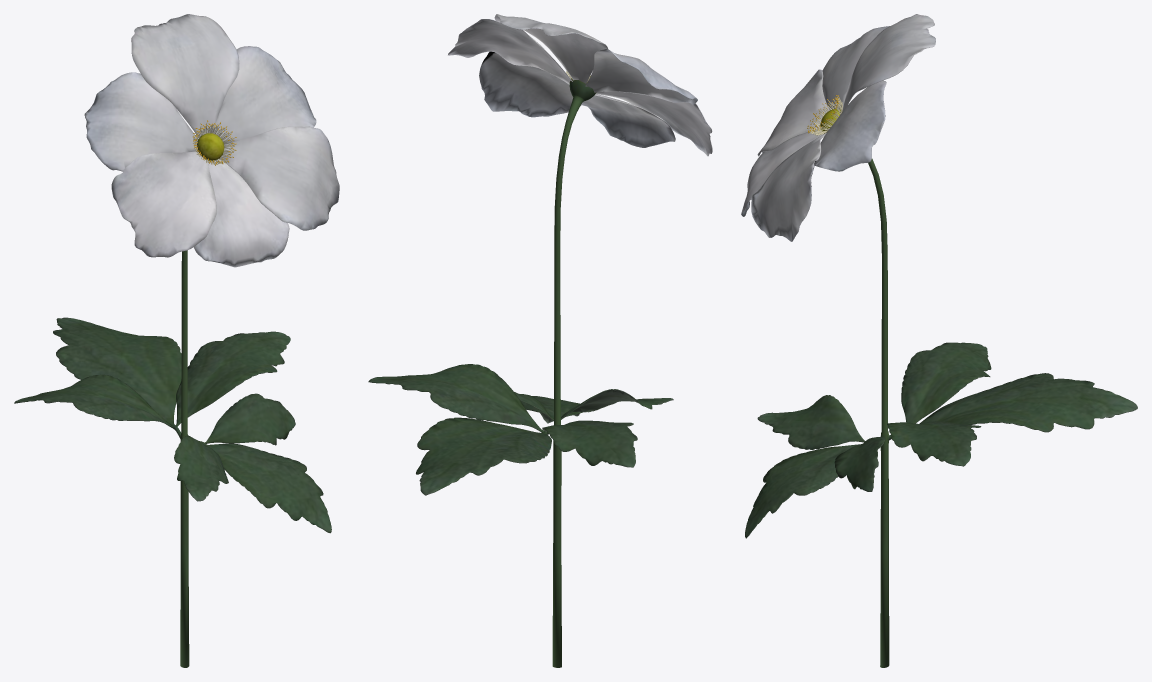
Rendered from anemone.gltf.
3 renders of one model, left to right at view 1: azimuth 30°, elevation 25°; view 2: azimuth 150°, elevation 25°; view 3: azimuth 270°, elevation 25°, orthographic. The views are drawn at different scales.
Visible parts, largest first — view 1: 12973_anemone_flower_v1_l2; view 2: 12973_anemone_flower_v1_l2; view 3: 12973_anemone_flower_v1_l2.
Boxes of the visible parts, <box> form: 12973_anemone_flower_v1_l2: <box>14,14,339,667</box>; 12973_anemone_flower_v1_l2: <box>368,14,712,667</box>; 12973_anemone_flower_v1_l2: <box>741,14,1137,667</box>.
Bounding box in the file's own units: 0.3549 × 0.8078 × 0.4567.
Materials: 1 (1 with a texture image).
